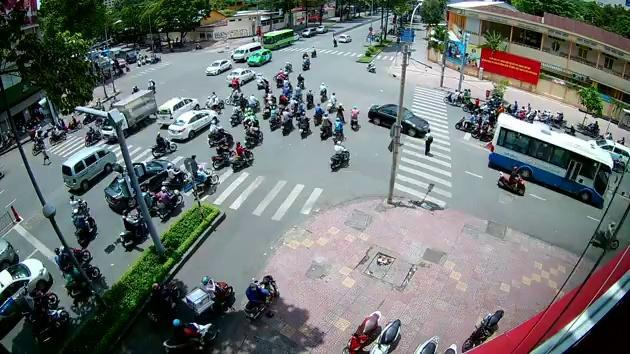xe buyt: (488, 111, 613, 204)
xe hoi: (0, 257, 50, 318), (366, 102, 430, 139), (166, 107, 218, 138), (155, 95, 199, 123), (225, 67, 256, 86), (204, 59, 233, 75)
xe may: (199, 274, 232, 303), (496, 166, 526, 196), (228, 140, 253, 171), (150, 131, 177, 158), (329, 139, 350, 172), (297, 111, 312, 140), (318, 111, 331, 142), (331, 117, 345, 143), (348, 105, 360, 131)
xe tai: (112, 89, 157, 127)
xe van: (59, 146, 116, 192)
